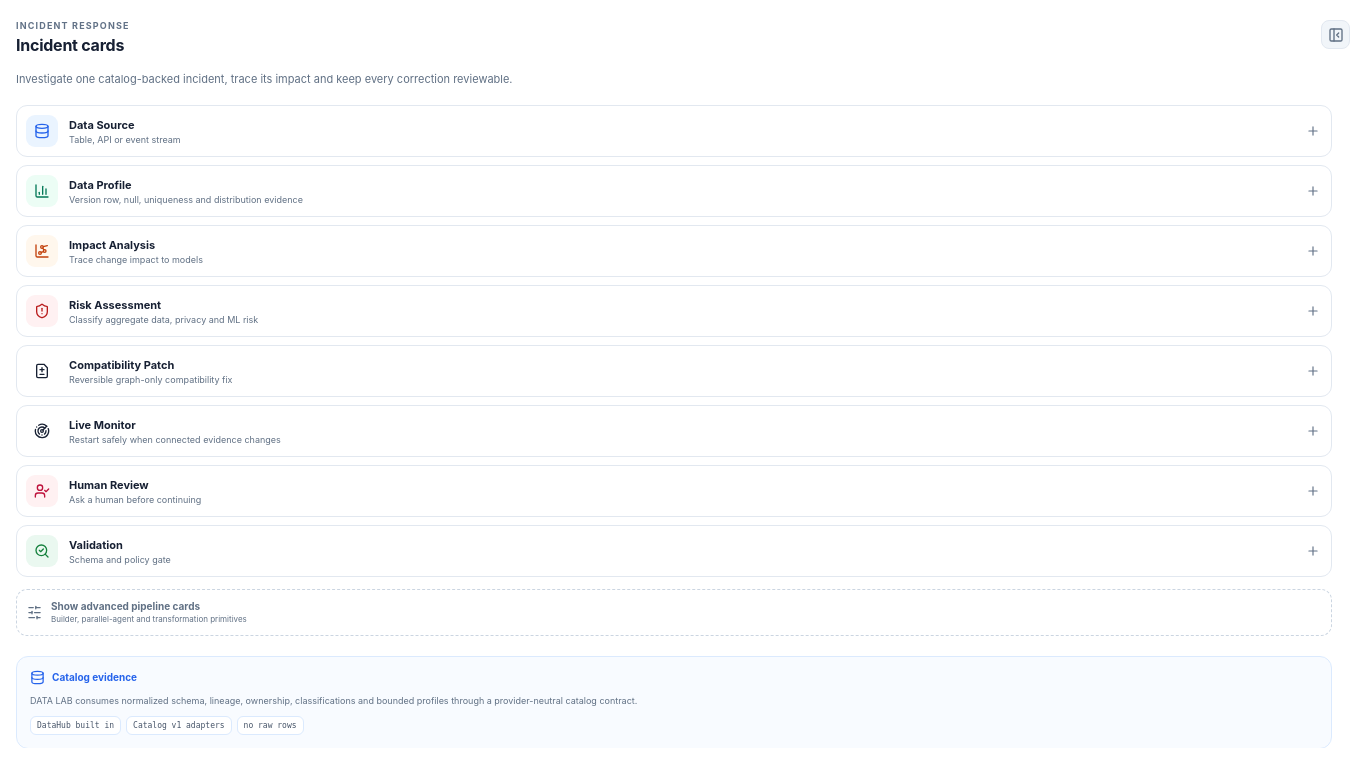
Scenario: focused card library › shows incident-response cards first and reveals builder primitives explicitly
Expected: the heading "Incident cards" is shown, [16,35,130,55]
Expected: the text "Data Source" is shown, [69,118,134,132]
Click the button "Show advanced pipeline cards": (126, 606) [16,589,1332,636]
(page scrolled)
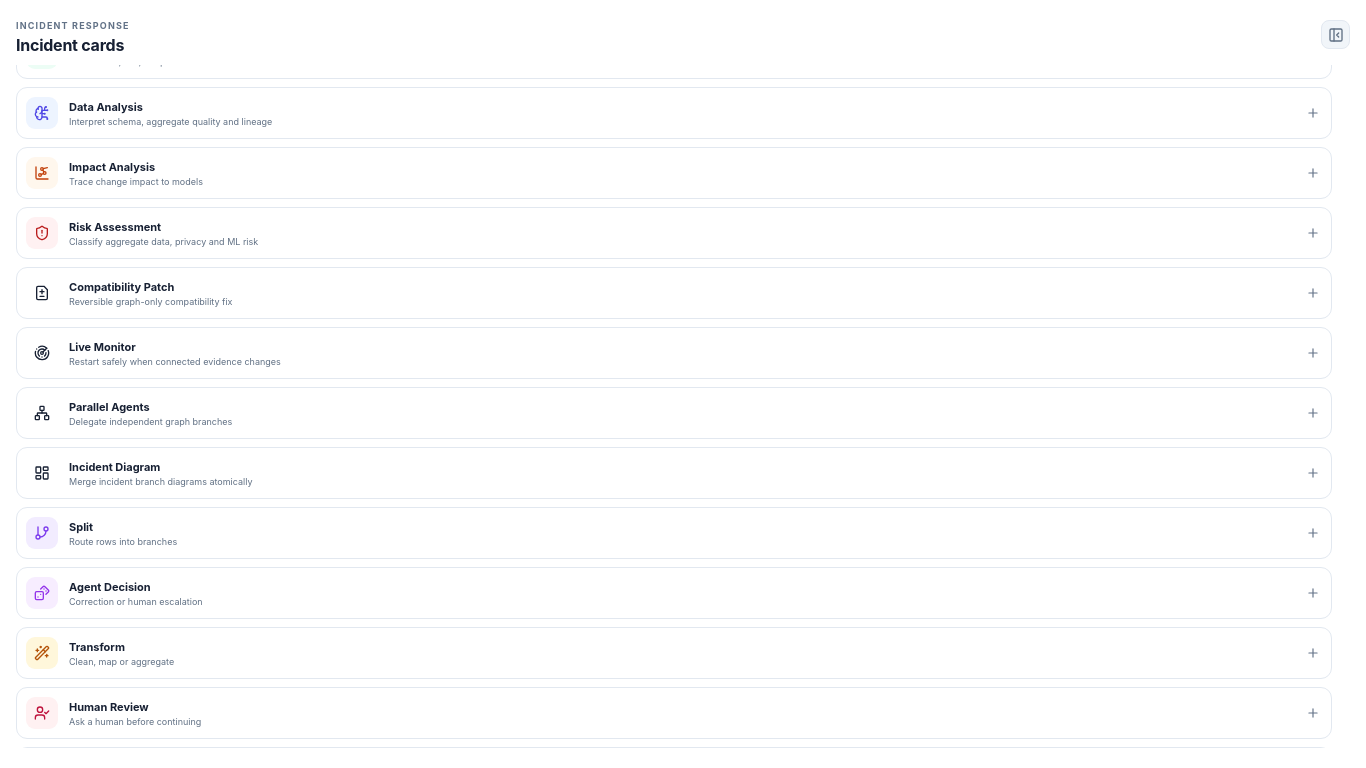
Result: the text "Parallel Agents" is shown at [69,400,150,414]
